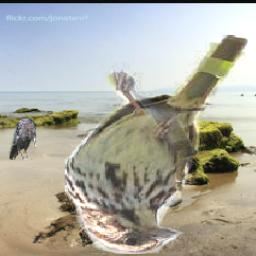Crow: (8, 117, 36, 160)
Sparrow: (65, 36, 250, 255)
